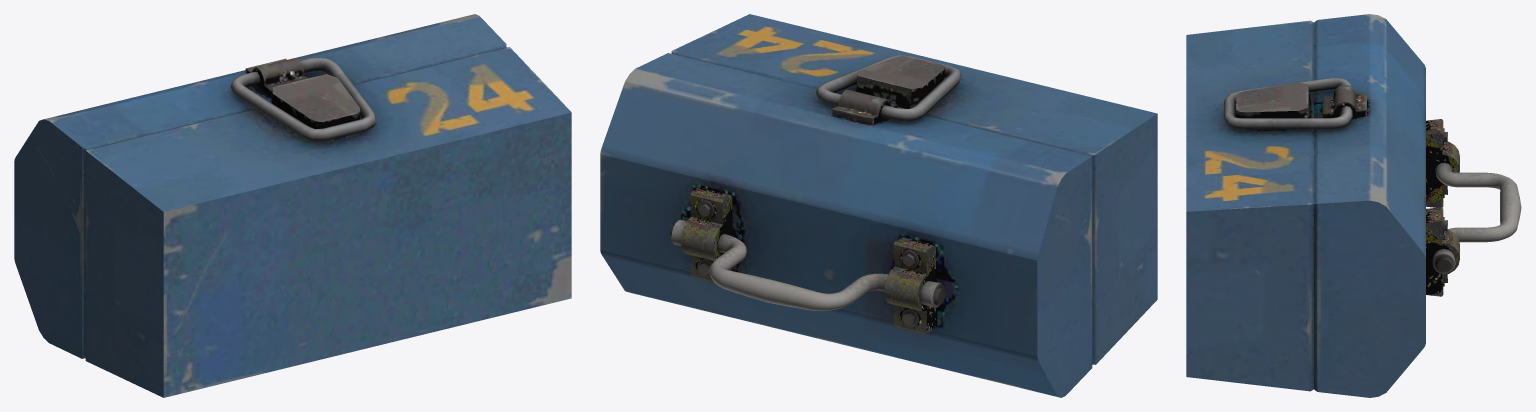
The picture shows the model from 3 angles, left to right: view 1: azimuth 30°, elevation 25°; view 2: azimuth 150°, elevation 25°; view 3: azimuth 270°, elevation 25°; orthographic projection. The views are drawn at different scales.
Visible parts, largest first — view 1: body0_model0_lod0_mesh0; view 2: body0_model0_lod0_mesh0; view 3: body0_model0_lod0_mesh0.
Boxes of the visible parts, x1,y1,x2,y2 form: body0_model0_lod0_mesh0: (14, 14, 571, 397); body0_model0_lod0_mesh0: (600, 14, 1157, 397); body0_model0_lod0_mesh0: (1186, 14, 1521, 397).
Bounding box in the file's own units: 32.87 × 17.52 × 24.55.
Materials: 1 (1 with a texture image).
